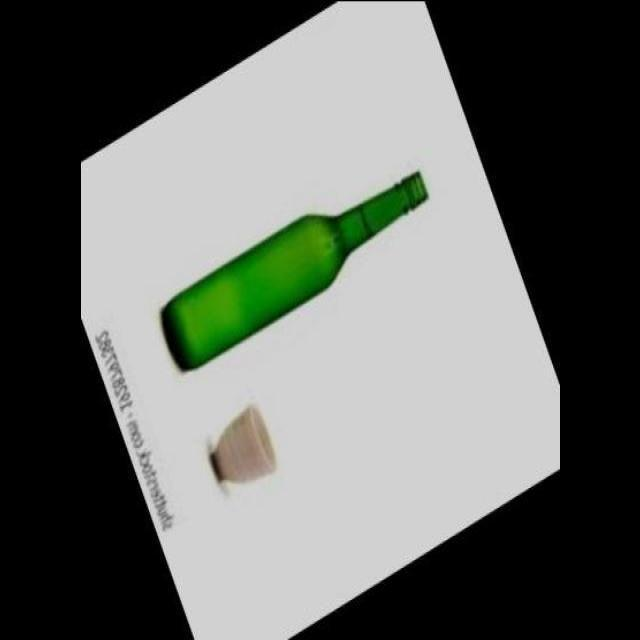Glass: (154, 164, 436, 380)
